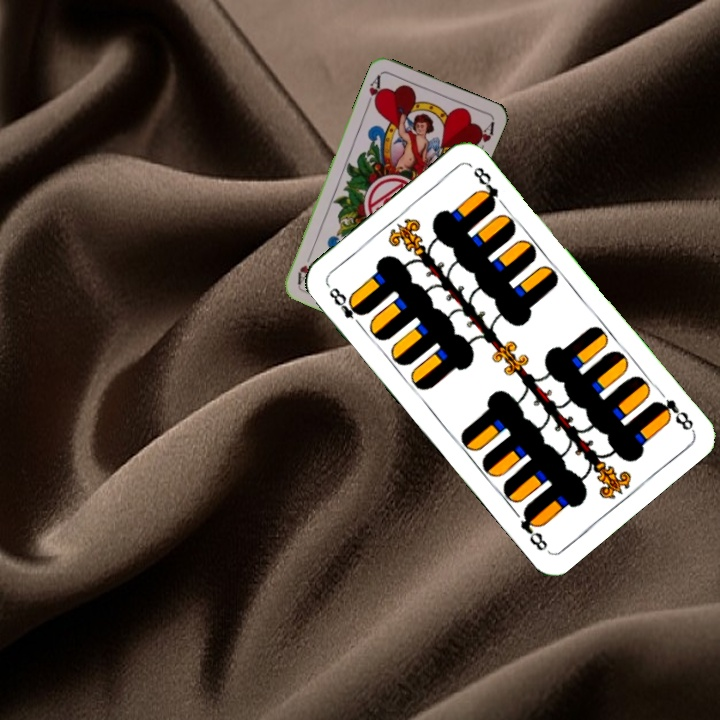E8: (325, 283, 368, 331), (649, 394, 696, 434)
HA: (362, 70, 385, 110)
